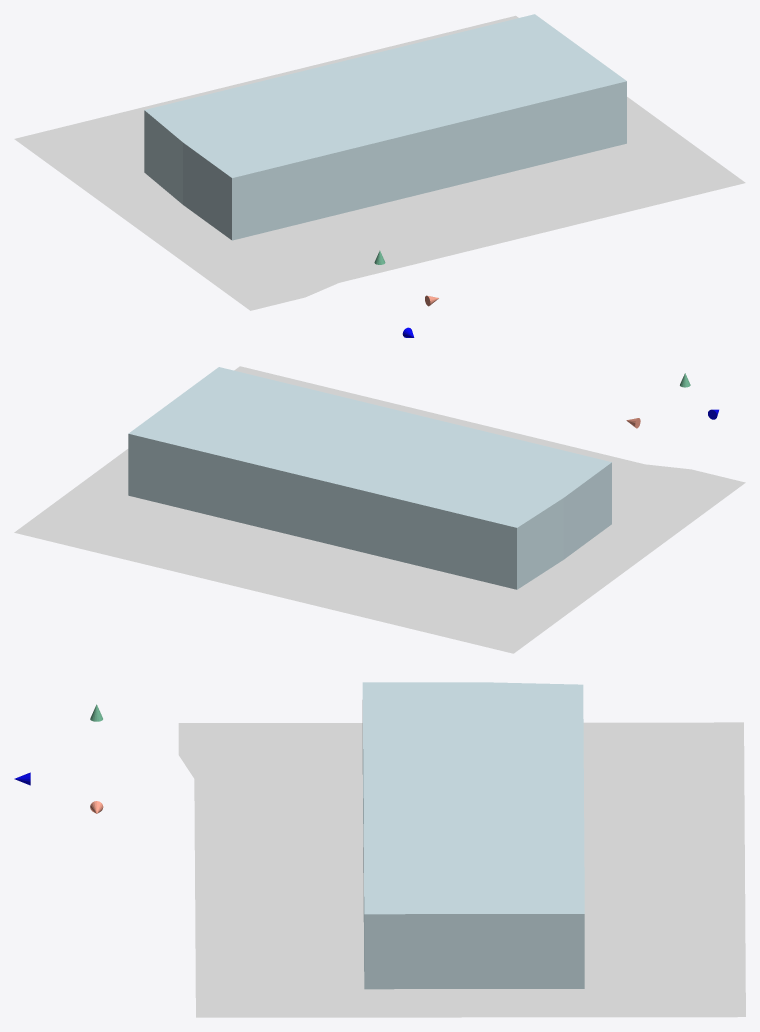
Rendered from polygons_test_wired_31-08-2026_20-53-23room_model.gltf.
The picture shows the model from 3 angles, top to bottom: view 1: azimuth 30°, elevation 25°; view 2: azimuth 150°, elevation 25°; view 3: azimuth 270°, elevation 25°; orthographic projection. The views are drawn at different scales.
Visible parts, largest first — view 1: Renderer Node; view 2: Renderer Node; view 3: Renderer Node.
Part boxes in pixels (box(x1,y1,x2,y2)): Renderer Node: box(14, 14, 745, 310); Renderer Node: box(14, 366, 745, 653); Renderer Node: box(178, 682, 745, 1017).
Bounding box in the file's own units: 8.45 × 1.08 × 8.85.
